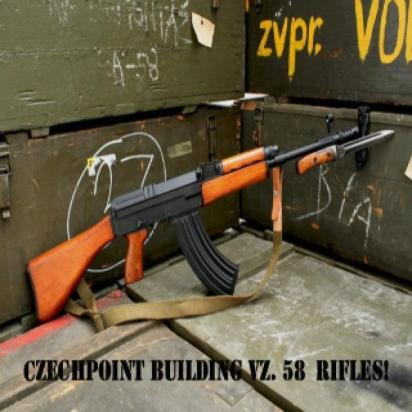Gun: (27, 106, 395, 319)
